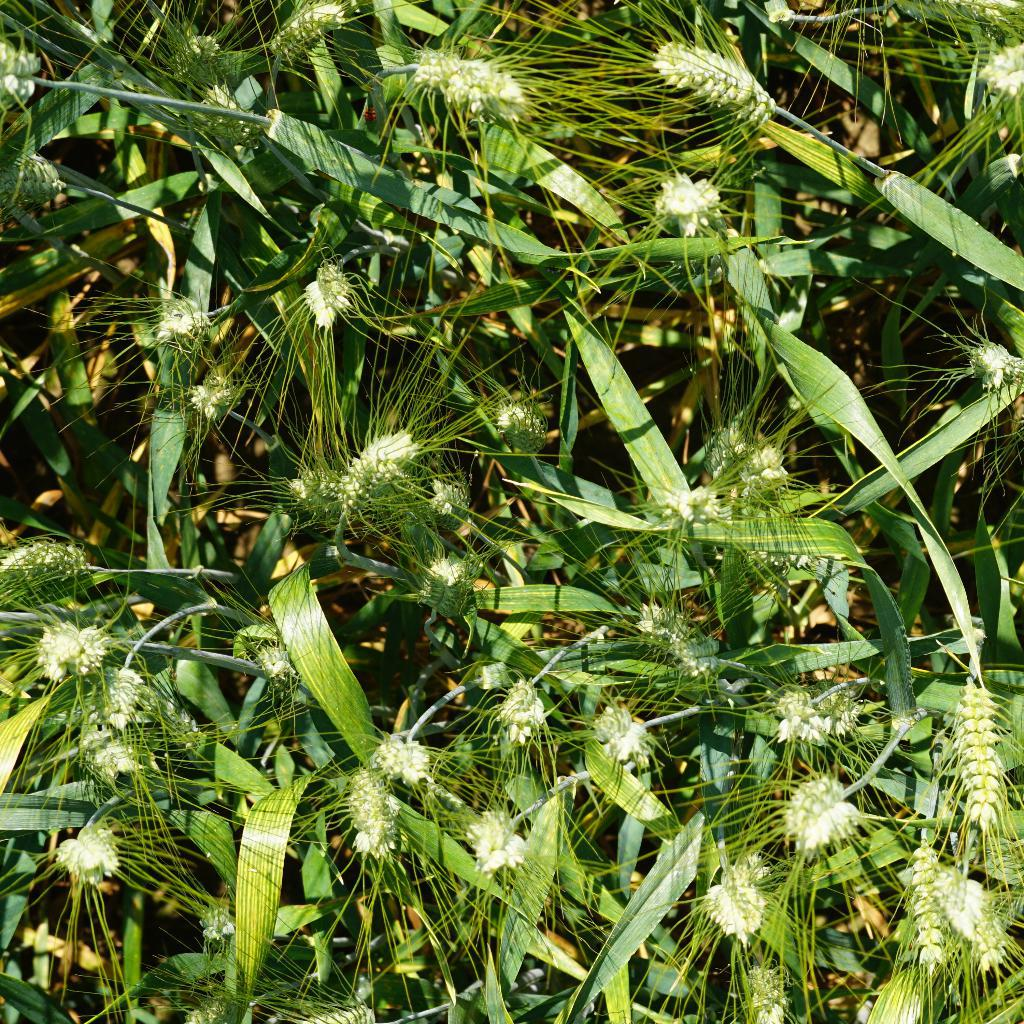0-0: (623, 22, 781, 129), (0, 518, 123, 608), (407, 44, 530, 126), (953, 666, 1009, 841), (768, 769, 874, 860), (631, 583, 729, 679), (332, 754, 415, 866), (478, 384, 570, 477), (694, 847, 788, 937), (326, 418, 407, 516), (896, 832, 953, 968), (777, 680, 873, 759), (941, 882, 1017, 972), (135, 684, 220, 763), (269, 0, 362, 71), (479, 666, 563, 744), (456, 799, 537, 878), (44, 818, 133, 886), (647, 165, 732, 234), (183, 75, 262, 149), (142, 283, 224, 354), (78, 727, 161, 795), (736, 949, 810, 1024), (0, 37, 77, 108), (2, 129, 81, 198), (172, 358, 250, 426), (404, 545, 473, 620), (96, 654, 160, 731), (718, 419, 789, 488), (34, 616, 109, 681), (888, 0, 1024, 34), (387, 725, 452, 796), (280, 459, 347, 527), (191, 893, 260, 955), (227, 621, 296, 683), (299, 265, 365, 328), (169, 22, 235, 85), (957, 328, 1017, 396), (595, 701, 661, 761), (165, 979, 249, 1024), (967, 38, 1024, 103), (422, 467, 484, 523), (290, 994, 388, 1024), (660, 486, 728, 526)
